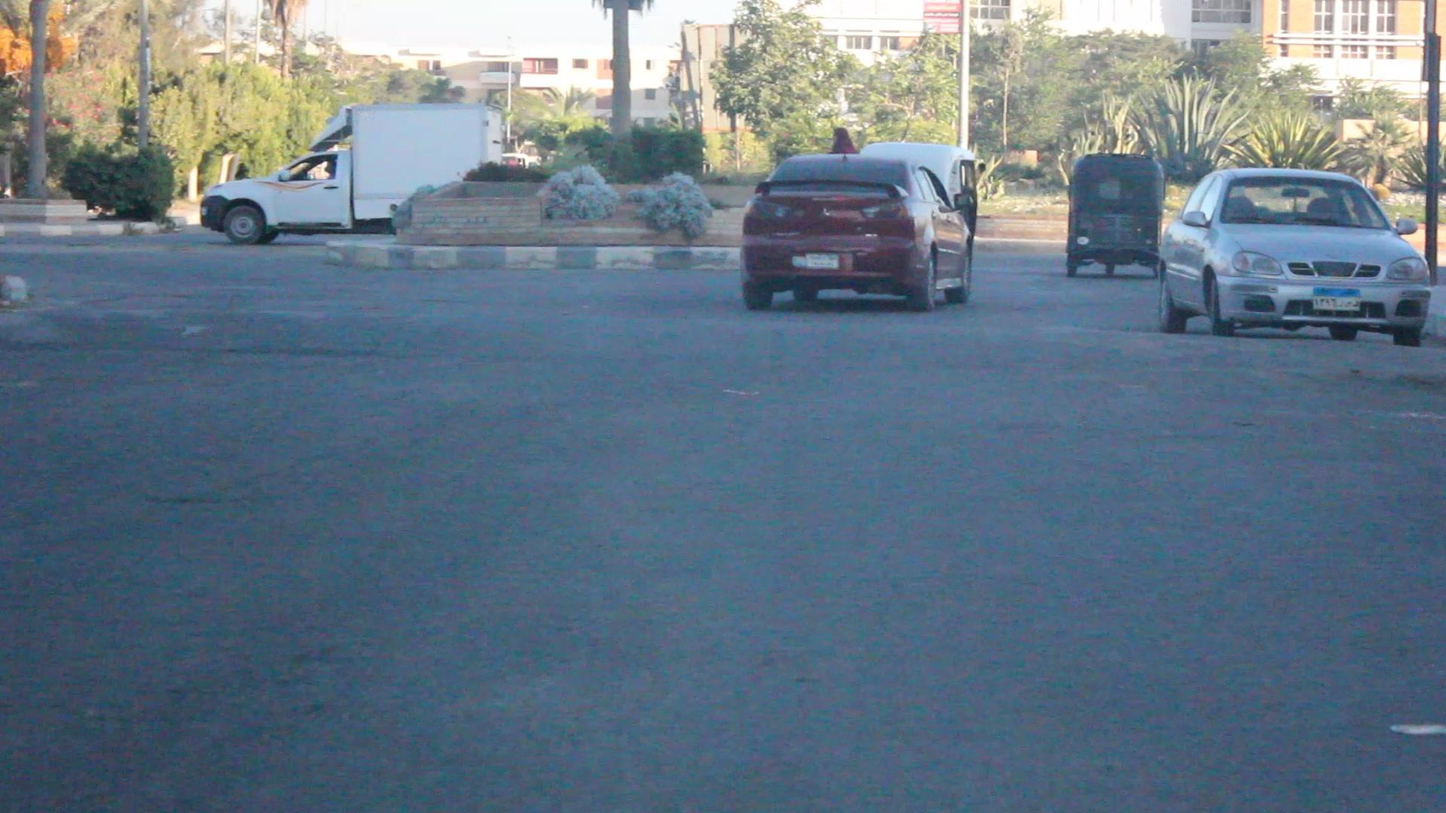Bump: (0, 307, 1444, 382)
